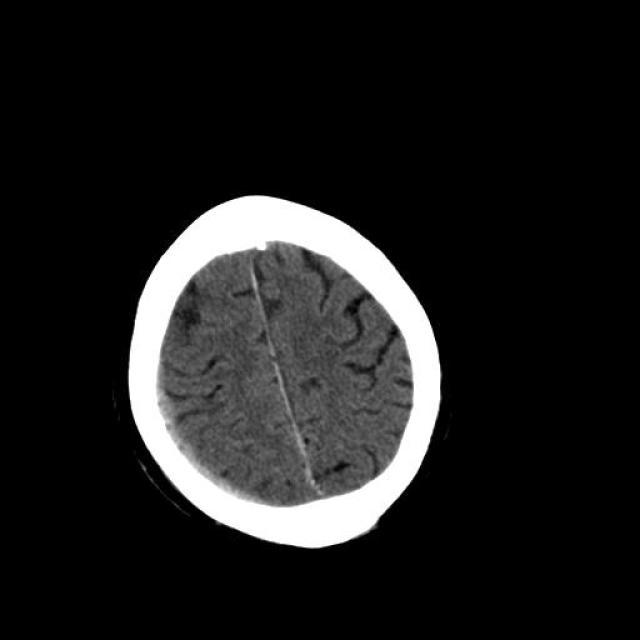Subdural: (136, 355, 259, 510)
